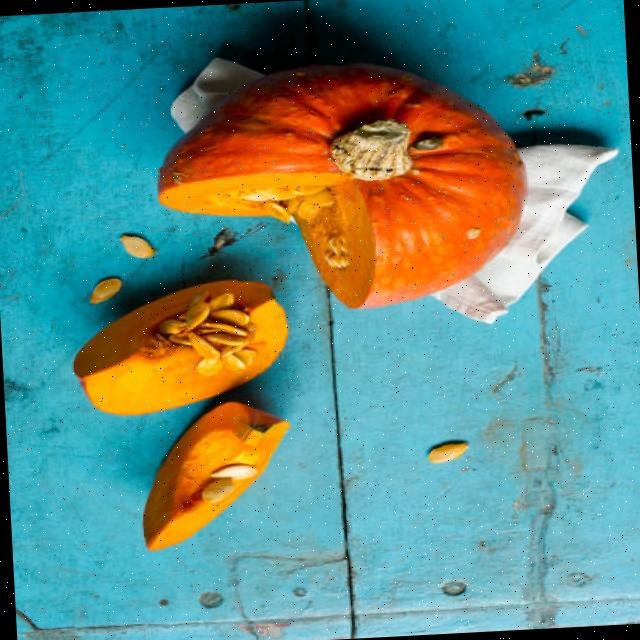pumpkin: (158, 65, 523, 308), (74, 280, 284, 415), (142, 402, 287, 550)
